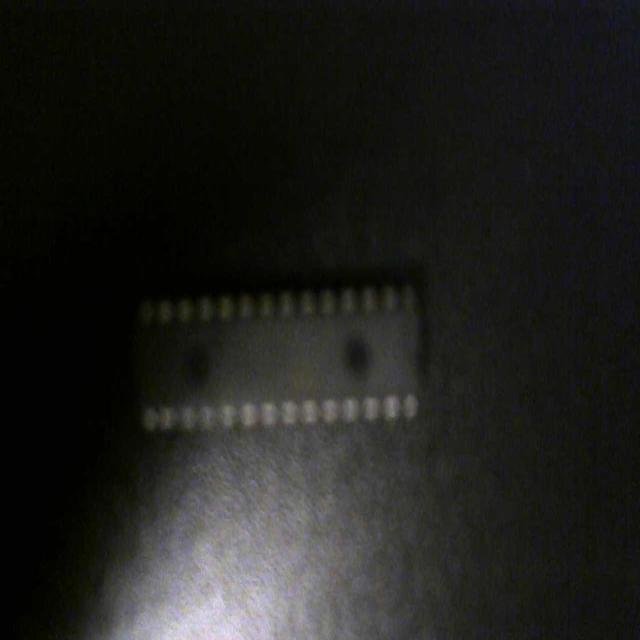atmega: (129, 258, 432, 442)
